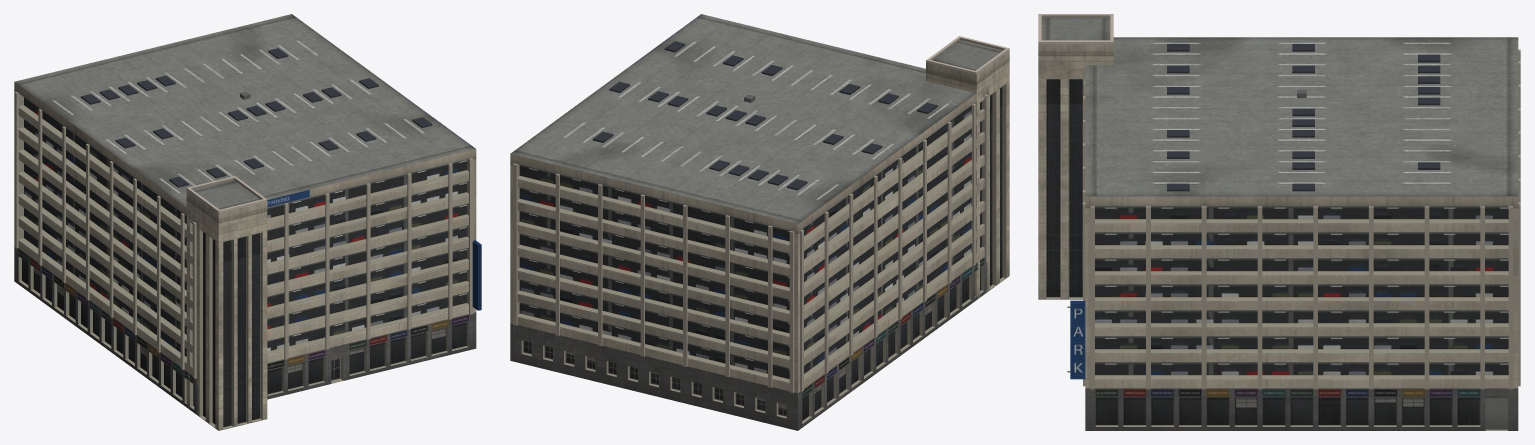
The model's file is seattle_garage_b.glb.
3 renders of one model, left to right at view 1: azimuth 30°, elevation 25°; view 2: azimuth 150°, elevation 25°; view 3: azimuth 270°, elevation 25°, orthographic. The views are drawn at different scales.
Parts seen in each view (by area): view 1: seattle_garage_b; view 2: seattle_garage_b; view 3: seattle_garage_b.
Part boxes in pixels (x1,y1,x2,y2): seattle_garage_b: (14, 14, 481, 430); seattle_garage_b: (510, 14, 1009, 430); seattle_garage_b: (1038, 14, 1520, 430).
Size of the model in its own units: 40.5 by 30.45 by 51.25.
1 material, 1 textured.
